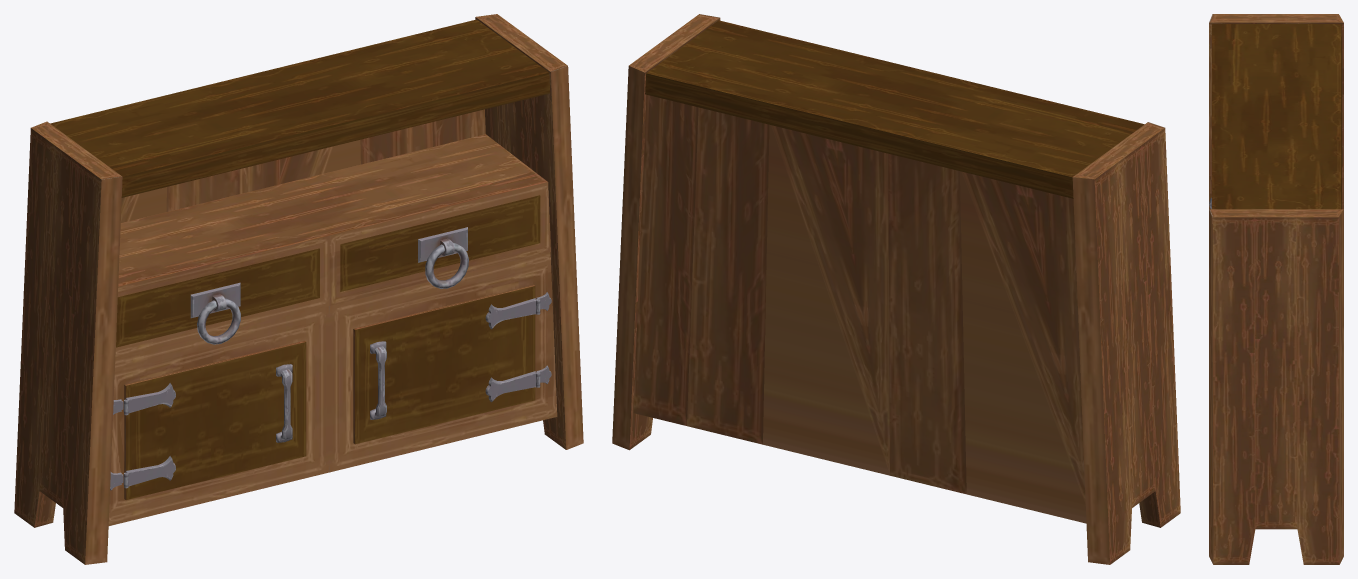
Rendered from cabinet.glb.
3 views of the same model, side by side, from view 1: azimuth 30°, elevation 25°; view 2: azimuth 150°, elevation 25°; view 3: azimuth 270°, elevation 25° (orthographic). The views are drawn at different scales.
Visible parts, largest first — view 1: Cabinet; view 2: Cabinet; view 3: Cabinet.
Boxes of the visible parts, x1,y1,x2,y2 form: Cabinet: (14, 14, 583, 564); Cabinet: (612, 14, 1180, 564); Cabinet: (1209, 14, 1343, 564).
Size of the model in its own units: 1.36 by 0.9974 by 0.3571.
2 materials, 2 textured.
